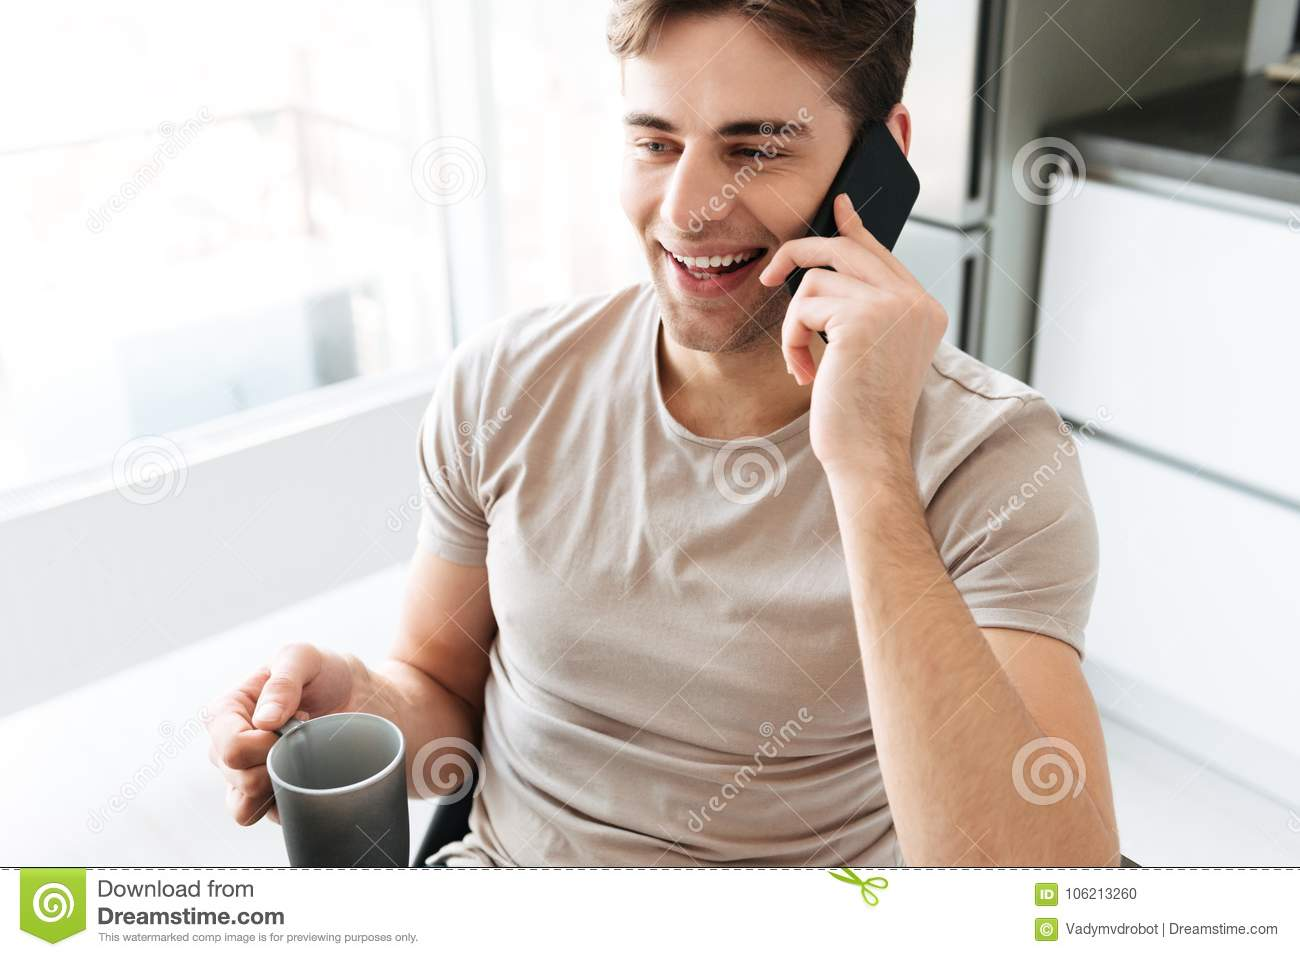phone: (786, 118, 920, 357)
talk: (620, 102, 950, 501)
